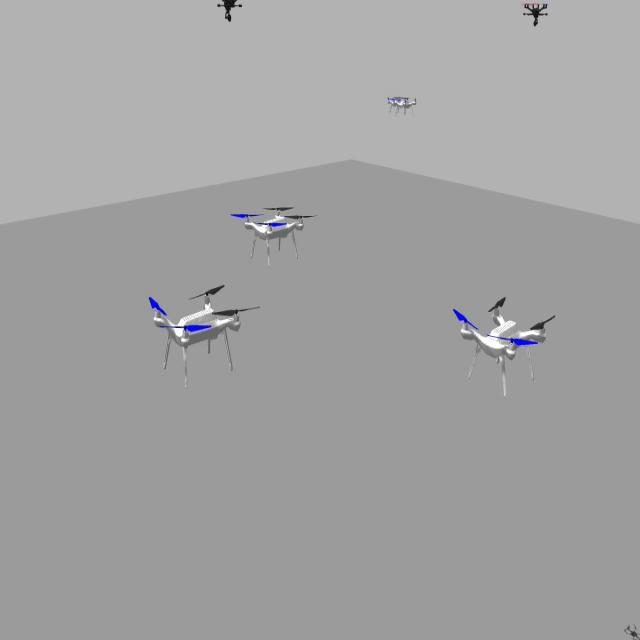Drone: (142, 265, 262, 391)
